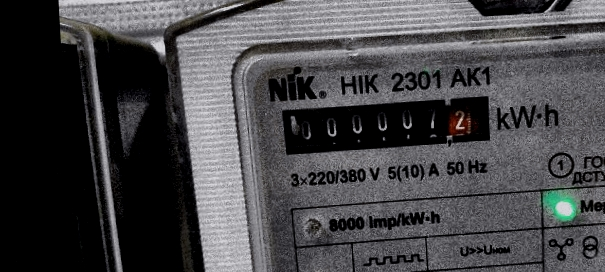0: (297, 116, 313, 141), (374, 109, 389, 132), (349, 111, 363, 135), (399, 106, 413, 130), (323, 114, 337, 137)
2: (452, 107, 466, 131)
7: (425, 105, 438, 129)
screen: (270, 84, 500, 163)
